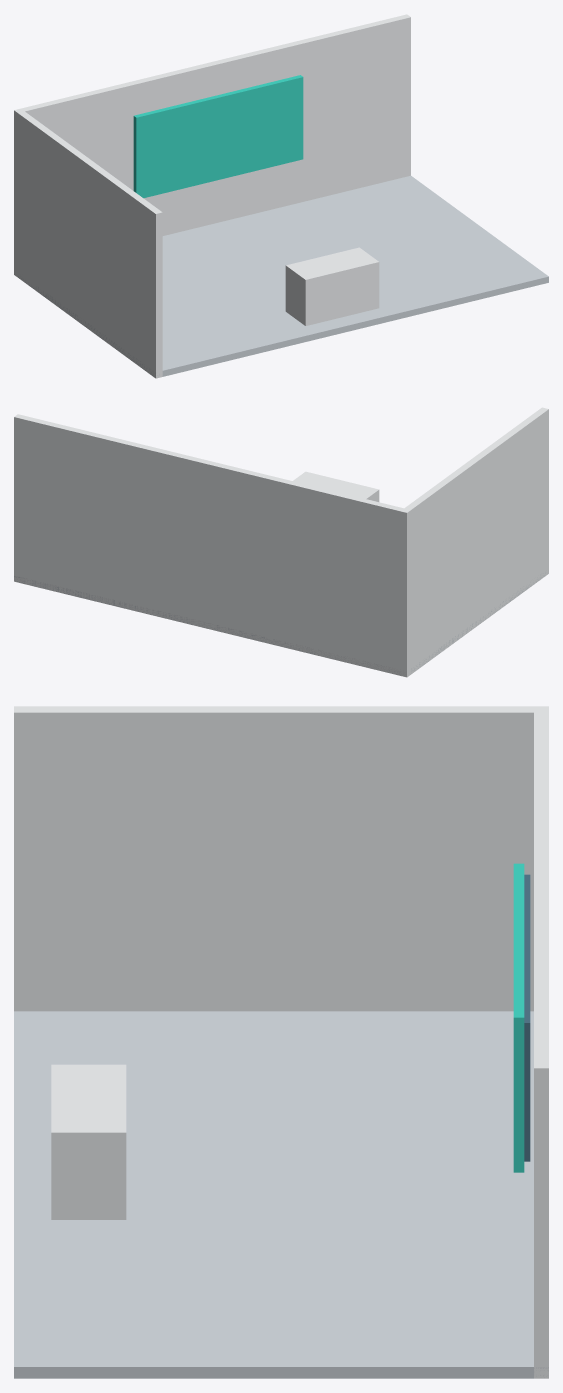
3 views of the same model, one above another, from view 1: azimuth 30°, elevation 25°; view 2: azimuth 150°, elevation 25°; view 3: azimuth 270°, elevation 25° (orthographic). The views are drawn at different scales.
Parts seen in each view (by area): view 1: Exhibition Booth Concept; view 2: Exhibition Booth Concept; view 3: Exhibition Booth Concept.
Part boxes in pixels (left/top/right/bottom): Exhibition Booth Concept: left=14, top=14, right=548, bottom=378; Exhibition Booth Concept: left=14, top=407, right=548, bottom=677; Exhibition Booth Concept: left=14, top=706, right=548, bottom=1378.
Bounding box in the file's own units: 8 × 3.2 × 5.
